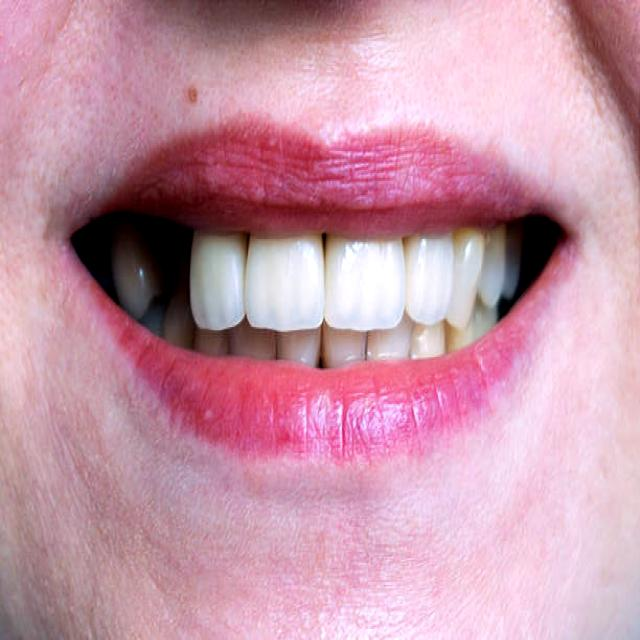hypodontia: (109, 212, 242, 348)
